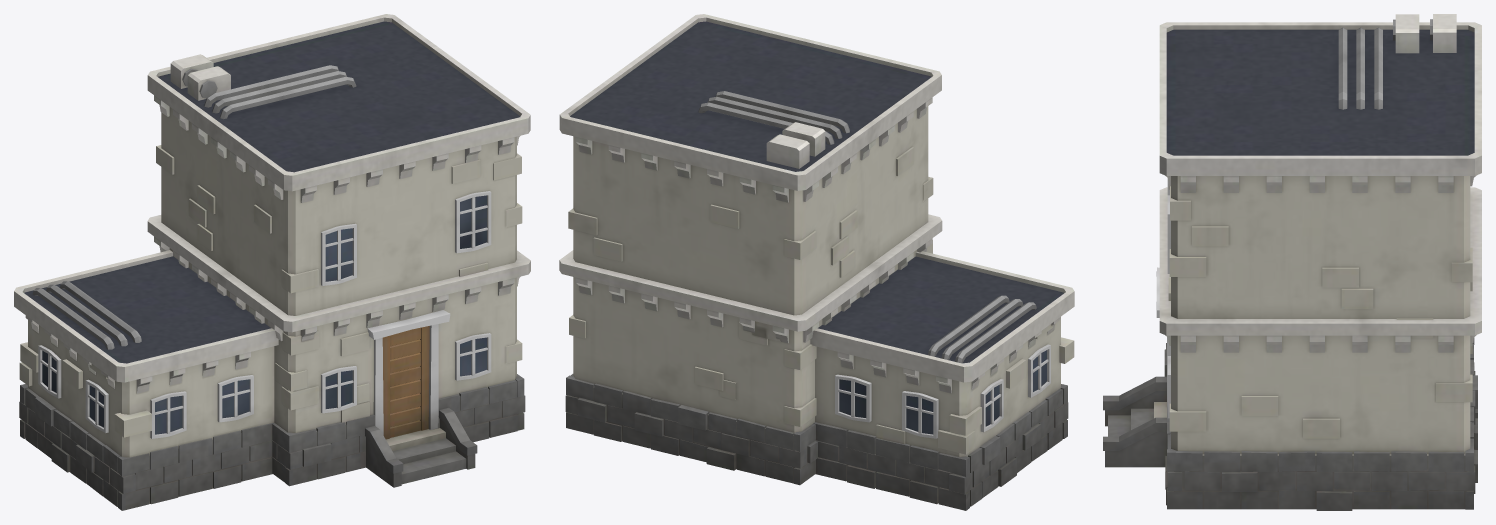
Rendered from building_2Story_Sidehouse.glb.
3 renders of one model, left to right at view 1: azimuth 30°, elevation 25°; view 2: azimuth 150°, elevation 25°; view 3: azimuth 270°, elevation 25°, orthographic. The views are drawn at different scales.
Visible parts, largest first — view 1: 2Story_Sidehouse_high; view 2: 2Story_Sidehouse_high; view 3: 2Story_Sidehouse_high.
Boxes of the visible parts, x1,y1,x2,y2 form: 2Story_Sidehouse_high: [14, 14, 530, 510]; 2Story_Sidehouse_high: [559, 14, 1074, 510]; 2Story_Sidehouse_high: [1103, 14, 1481, 510].
Size of the model in its own units: 3.47 by 2.76 by 2.53.
2 materials, 2 textured.
